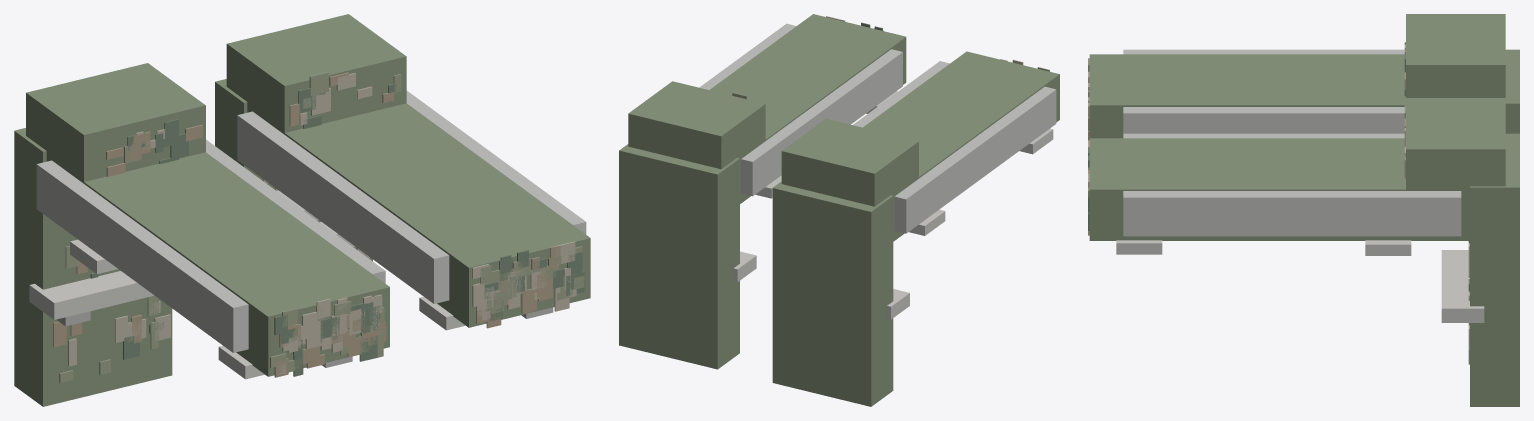
File: ferulas_90_glb.glb
3 views of the same model, side by side, from view 1: azimuth 30°, elevation 25°; view 2: azimuth 150°, elevation 25°; view 3: azimuth 270°, elevation 25° (orthographic). The views are drawn at different scales.
Visible parts, largest first — view 1: right_brace_shin_base, left_brace_shin_base, left_brace_foot_base, left_brace_heel_base, right_brace_heel_base, left_brace_side_rail, right_brace_side_rail, left_brace_footstrap, right_brace_side_rail_1, left_brace_side_rail_1, right_brace_foot_base, left_brace_strap_1 (+2 smaller); view 2: left_brace_foot_base, right_brace_foot_base, left_brace_shin_base, right_brace_shin_base, right_brace_heel_base, left_brace_heel_base, left_brace_side_rail, right_brace_side_rail, right_brace_side_rail_1, left_brace_side_rail_1, right_brace_footstrap, left_brace_strap_1 (+1 smaller); view 3: right_brace_shin_base, left_brace_shin_base, right_brace_side_rail_1, right_brace_foot_base, right_brace_heel_base, left_brace_heel_base, left_brace_side_rail_1, right_brace_footstrap, left_brace_side_rail, right_brace_side_rail, left_brace_foot_base, right_brace_strap_1 (+1 smaller).
Boxes of the visible parts, x1,y1,x2,y2 form: right_brace_shin_base: (247,103,590,327); left_brace_shin_base: (46,152,389,376); left_brace_foot_base: (14,128,172,406); left_brace_heel_base: (26,63,205,183); right_brace_heel_base: (226,14,406,132); left_brace_side_rail: (36,160,248,352); right_brace_side_rail: (237,111,449,303); left_brace_footstrap: (29,271,154,319); right_brace_side_rail_1: (406,90,586,234); left_brace_side_rail_1: (206,139,385,283); right_brace_foot_base: (215,79,372,261); left_brace_strap_1: (70,239,117,274); left_brace_foot_base: (772,181,893,406); right_brace_foot_base: (619,144,739,369); left_brace_shin_base: (863,51,1059,241); right_brace_shin_base: (709,14,906,203); right_brace_heel_base: (628,81,765,169); left_brace_heel_base: (781,118,918,206); left_brace_side_rail: (894,86,1056,233); right_brace_side_rail: (741,49,902,196); right_brace_side_rail_1: (699,23,796,89); left_brace_side_rail_1: (853,61,949,127); right_brace_footstrap: (733,251,756,282); left_brace_strap_1: (909,209,945,235); right_brace_shin_base: (1089,138,1469,240); left_brace_shin_base: (1089,54,1405,138); right_brace_side_rail_1: (1123,191,1461,236); right_brace_foot_base: (1470,133,1519,406); right_brace_heel_base: (1406,98,1505,197); left_brace_heel_base: (1406,14,1505,97); left_brace_side_rail_1: (1123,107,1404,133); right_brace_footstrap: (1441,250,1484,322); left_brace_side_rail: (1123,49,1404,54); right_brace_side_rail: (1123,133,1404,138); left_brace_foot_base: (1505,49,1519,133); right_brace_strap_1: (1365,240,1411,255).
Size of the model in its own units: 0.985 by 0.805 by 1.21.
